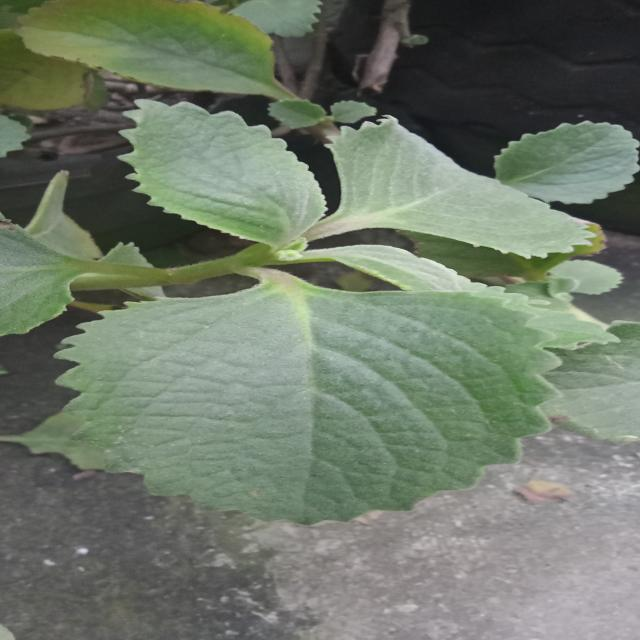Oregano: (42, 268, 602, 542)
